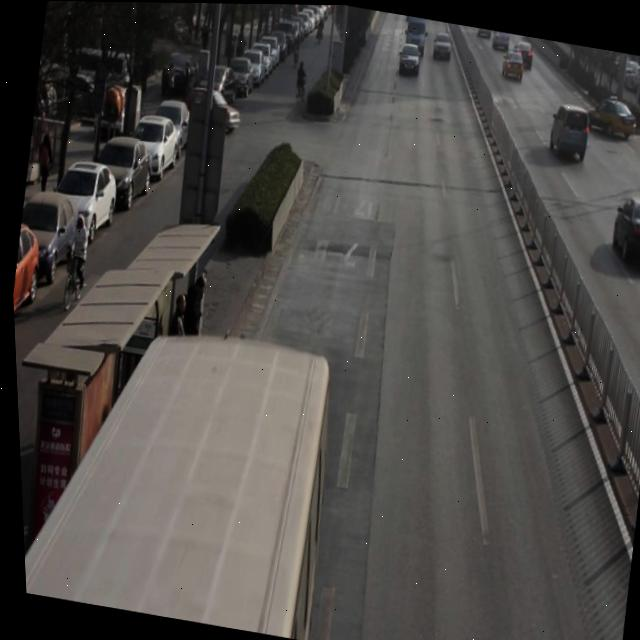bus: (400, 14, 430, 59)
car: (544, 102, 593, 164), (583, 89, 640, 142), (605, 193, 640, 270), (394, 42, 422, 79), (499, 45, 526, 83), (429, 30, 454, 64), (513, 39, 535, 71), (489, 29, 510, 54), (475, 26, 491, 39)
van: (11, 307, 342, 640)
